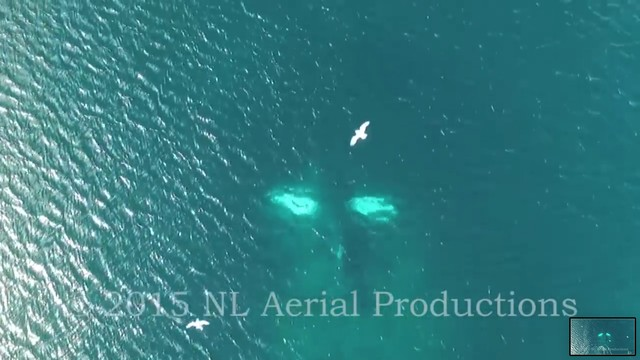whale: (272, 137, 404, 307)
